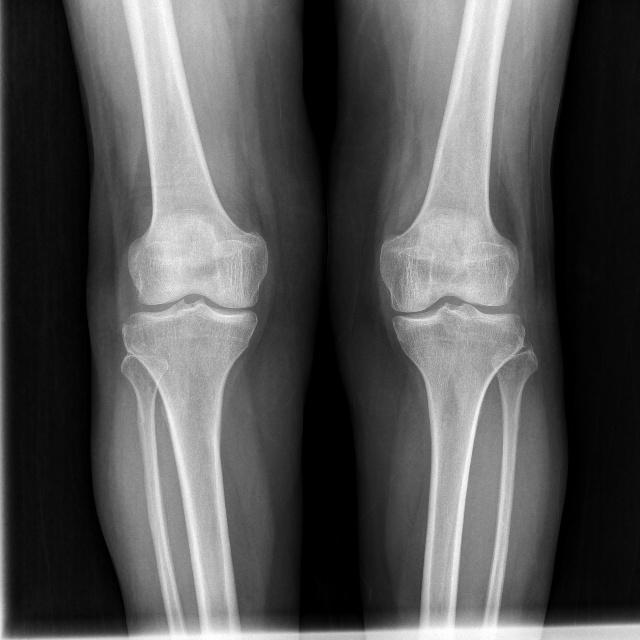Knee: (120, 240, 270, 376), (376, 244, 525, 367)
